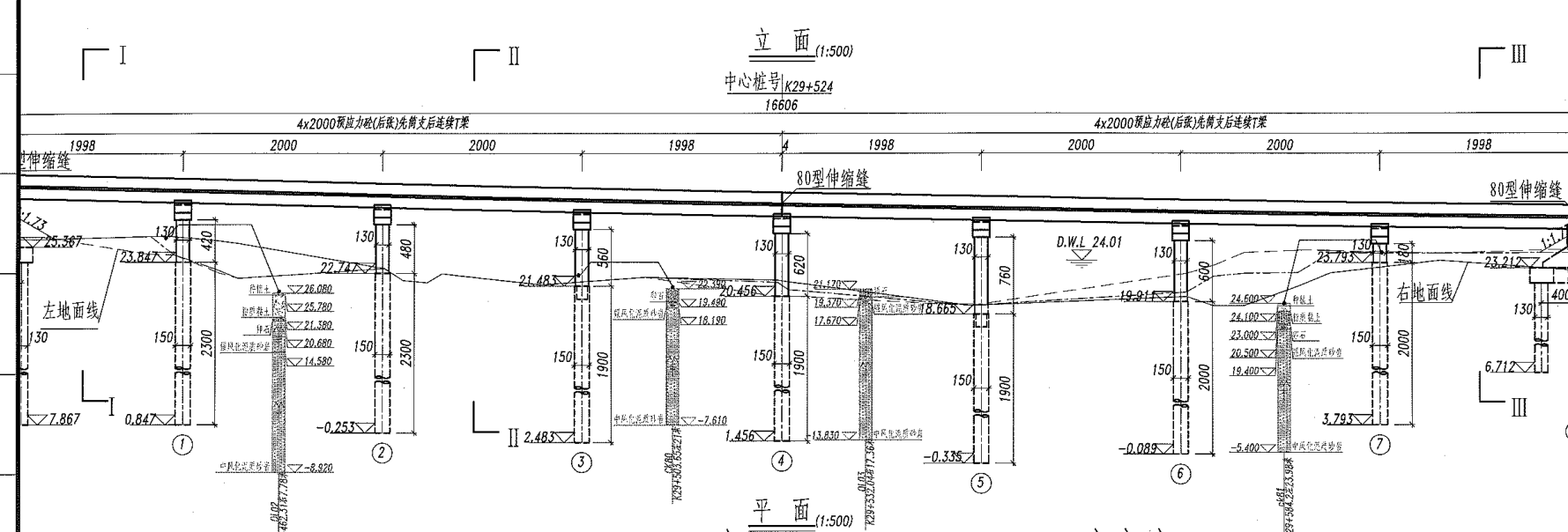A: (23, 94, 1568, 122)
B: (771, 102, 1561, 151), (22, 105, 791, 150)
C: (505, 203, 601, 478), (1111, 214, 1202, 489), (915, 212, 1001, 498), (112, 192, 204, 458), (313, 197, 403, 468), (1312, 214, 1400, 458), (723, 207, 801, 477), (1473, 240, 1566, 410)
D: (1048, 230, 1129, 271)
